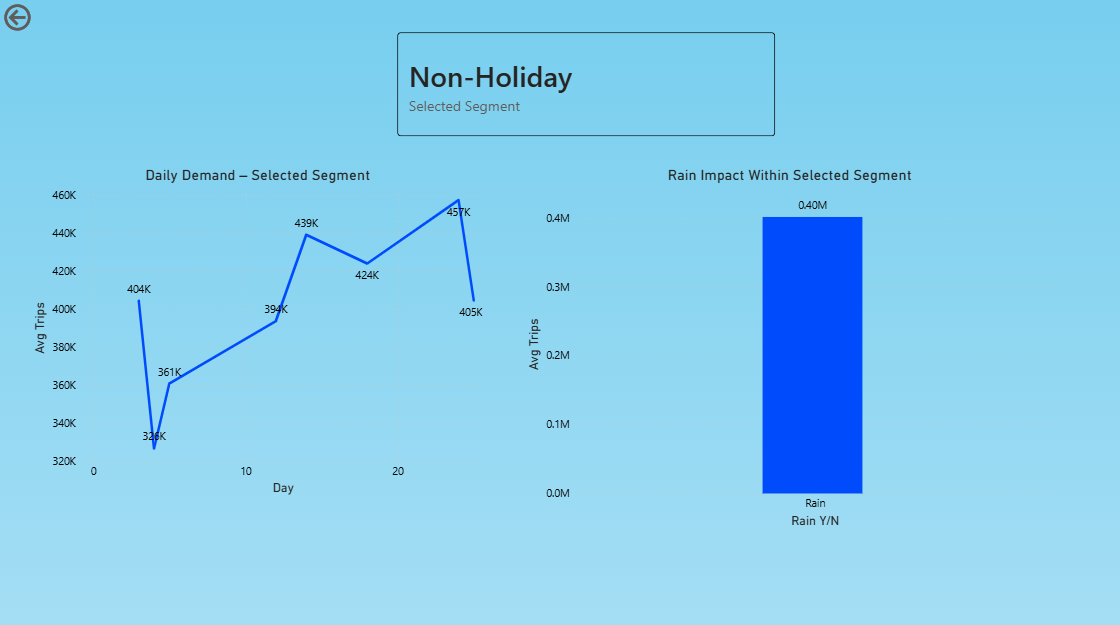

The dashboard page shown, as its layout file describes it:
{"tool":"powerbi","page":{"name":"Segment Detail Analysis","canvas":[1280,720],"ordinal":2},"visuals":[{"type":"actionButton","box":[0,0,100,40],"z":0},{"type":"cardVisual","fields":{"Data":["taxi_daily_dashboard_dataset.Selected Segment"]},"box":[436.6,19.9,466.5,153],"z":1},{"type":"clusteredColumnChart","title":"Rain Impact Within Selected Segment","fields":{"Category":["taxi_daily_dashboard_dataset.Rain Y/N"],"Y":["taxi_daily_dashboard_dataset.Avg Trips"]},"box":[597.1,190.3,610.8,418],"z":3},{"type":"lineChart","title":"Daily Demand – Selected Segment","fields":{"Y":["taxi_daily_dashboard_dataset.Avg Trips"],"Category":["taxi_daily_dashboard_dataset.date.Variation.Date Hierarchy.Day"]},"box":[32.3,190.3,523.7,380.7],"z":4},{"type":"actionButton","box":[0,0,99.5,39.8],"z":5}]}

Visuals, with their boxes in screenshot pixels (x1, y1, x2, y2), scaled from the page's 1280x720 canvas onto the 1120x625 screenshot:
actionButton: 0:0:88:35
cardVisual - taxi_daily_dashboard_dataset.Selected Segment: 382:17:790:150
"Rain Impact Within Selected Segment" clusteredColumnChart: 522:165:1057:528
"Daily Demand – Selected Segment" lineChart: 28:165:486:496
actionButton: 0:0:87:35
